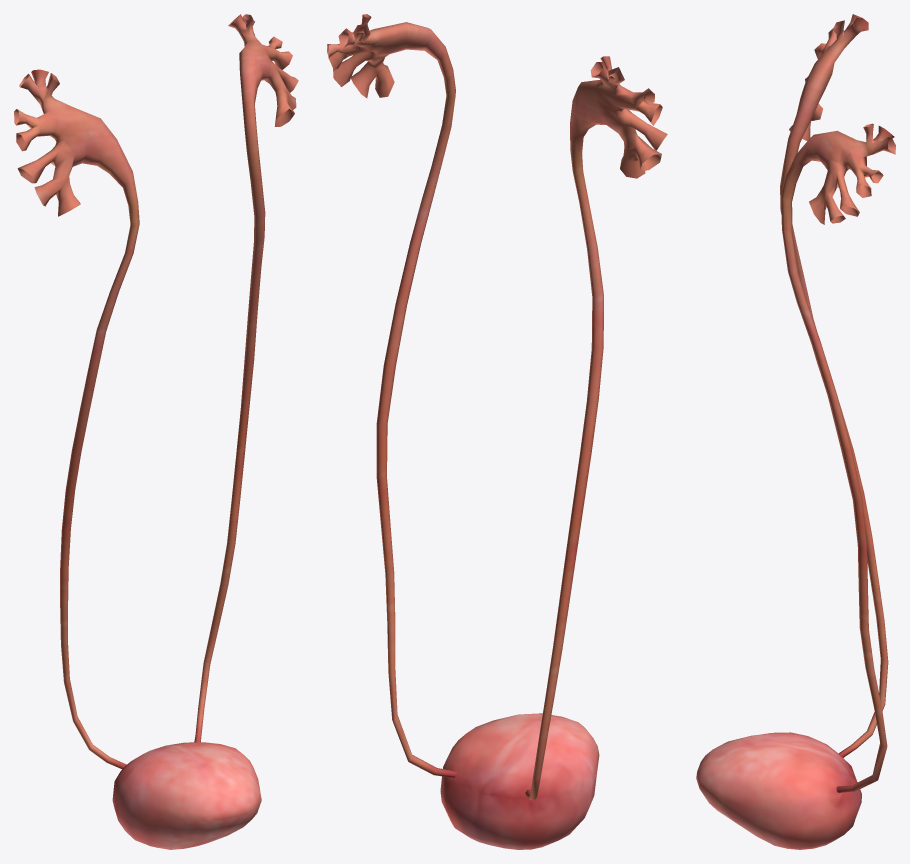
The model's file is 4.4 Urinary Bladder.glb.
The picture shows the model from 3 angles, left to right: view 1: azimuth 30°, elevation 25°; view 2: azimuth 150°, elevation 25°; view 3: azimuth 270°, elevation 25°; orthographic projection. The views are drawn at different scales.
Visible parts, largest first — view 1: R_Ureter, Bladder, L_Ureter; view 2: Bladder, R_Ureter, L_Ureter; view 3: Bladder, L_Ureter, R_Ureter.
Part boxes in pixels (x1,y1,x2,y2): R_Ureter: (14,69,139,769); Bladder: (112,742,261,849); L_Ureter: (194,14,298,742); Bladder: (440,713,599,849); R_Ureter: (525,56,667,800); L_Ureter: (327,14,456,777); Bladder: (696,732,861,849); L_Ureter: (781,123,895,792); R_Ureter: (780,14,888,757).
Bounding box in the file's own units: 0.1181 × 0.2993 × 0.0705.
Materials: 1 (1 with a texture image).
